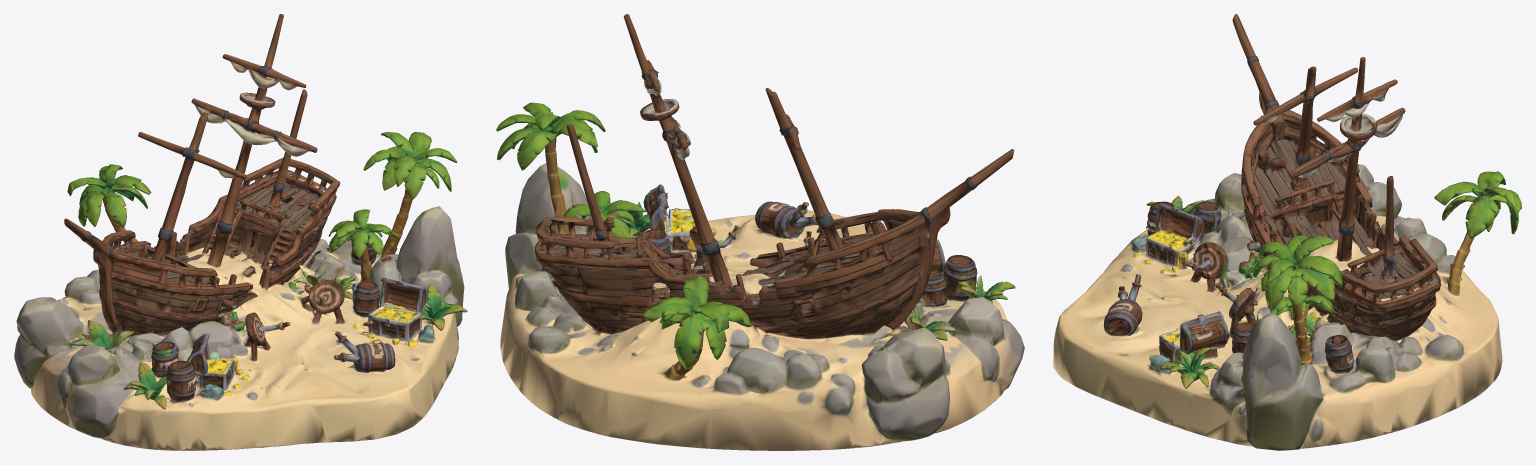
The model's file is island_projetos.glb.
The picture shows the model from 3 angles, left to right: view 1: azimuth 30°, elevation 25°; view 2: azimuth 150°, elevation 25°; view 3: azimuth 270°, elevation 25°; orthographic projection. The views are drawn at different scales.
Size of the model in its own units: 1.9 by 1.35 by 1.75.
1 material, 1 textured.
